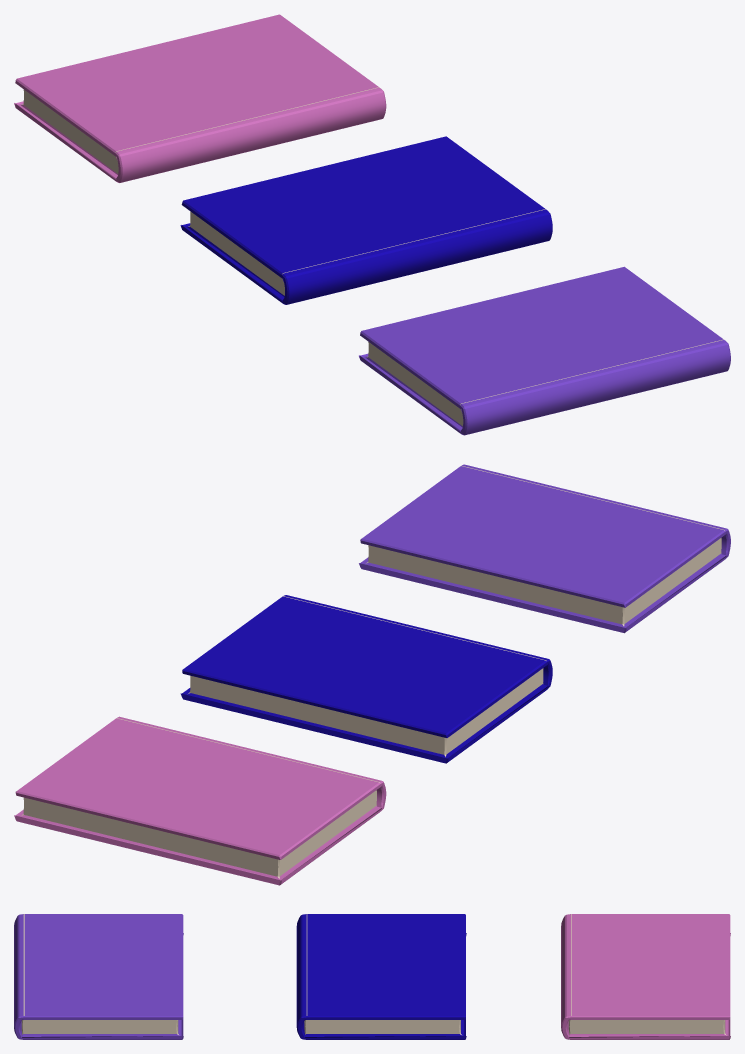
File: books.fbx
3 views of the same model, one above another, from view 1: azimuth 30°, elevation 25°; view 2: azimuth 150°, elevation 25°; view 3: azimuth 270°, elevation 25° (orthographic). The views are drawn at different scales.
Parts seen in each view (by area): view 1: Cube, Cube.001, Cube.002; view 2: Cube.001, Cube, Cube.002; view 3: Cube, Cube.002, Cube.001.
Part boxes in pixels (x1,y1,x2,y2): Cube: (359, 266, 730, 435); Cube.001: (180, 136, 552, 304); Cube.002: (14, 14, 386, 182); Cube.001: (180, 595, 552, 763); Cube: (359, 464, 730, 633); Cube.002: (14, 716, 386, 885); Cube: (14, 914, 183, 1039); Cube.002: (561, 914, 730, 1039); Cube.001: (296, 914, 466, 1039).
Size of the model in its own units: 152 by 16.51 by 445.
